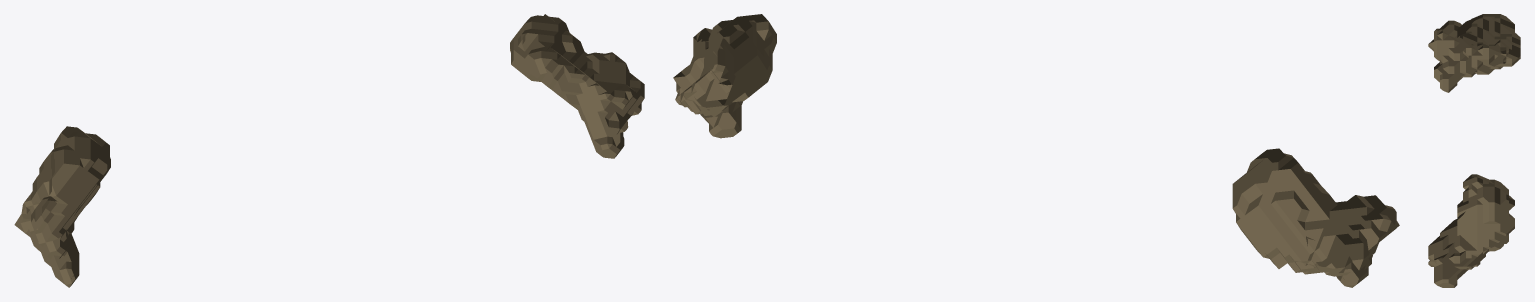
File: region_0185_Vsm__primary_sensory_trigeminal_nucleus_.glb
3 views of the same model, side by side, from view 1: azimuth 30°, elevation 25°; view 2: azimuth 150°, elevation 25°; view 3: azimuth 270°, elevation 25° (orthographic). The views are drawn at different scales.
Visible parts, largest first — view 1: world; view 2: world; view 3: world.
Boxes of the visible parts, left/top/right/bottom form: world: left=14, top=14, right=644, bottom=287; world: left=673, top=14, right=1399, bottom=287; world: left=1428, top=14, right=1520, bottom=287.
Size of the model in its own units: 0.728 by 0.144 by 0.128.
